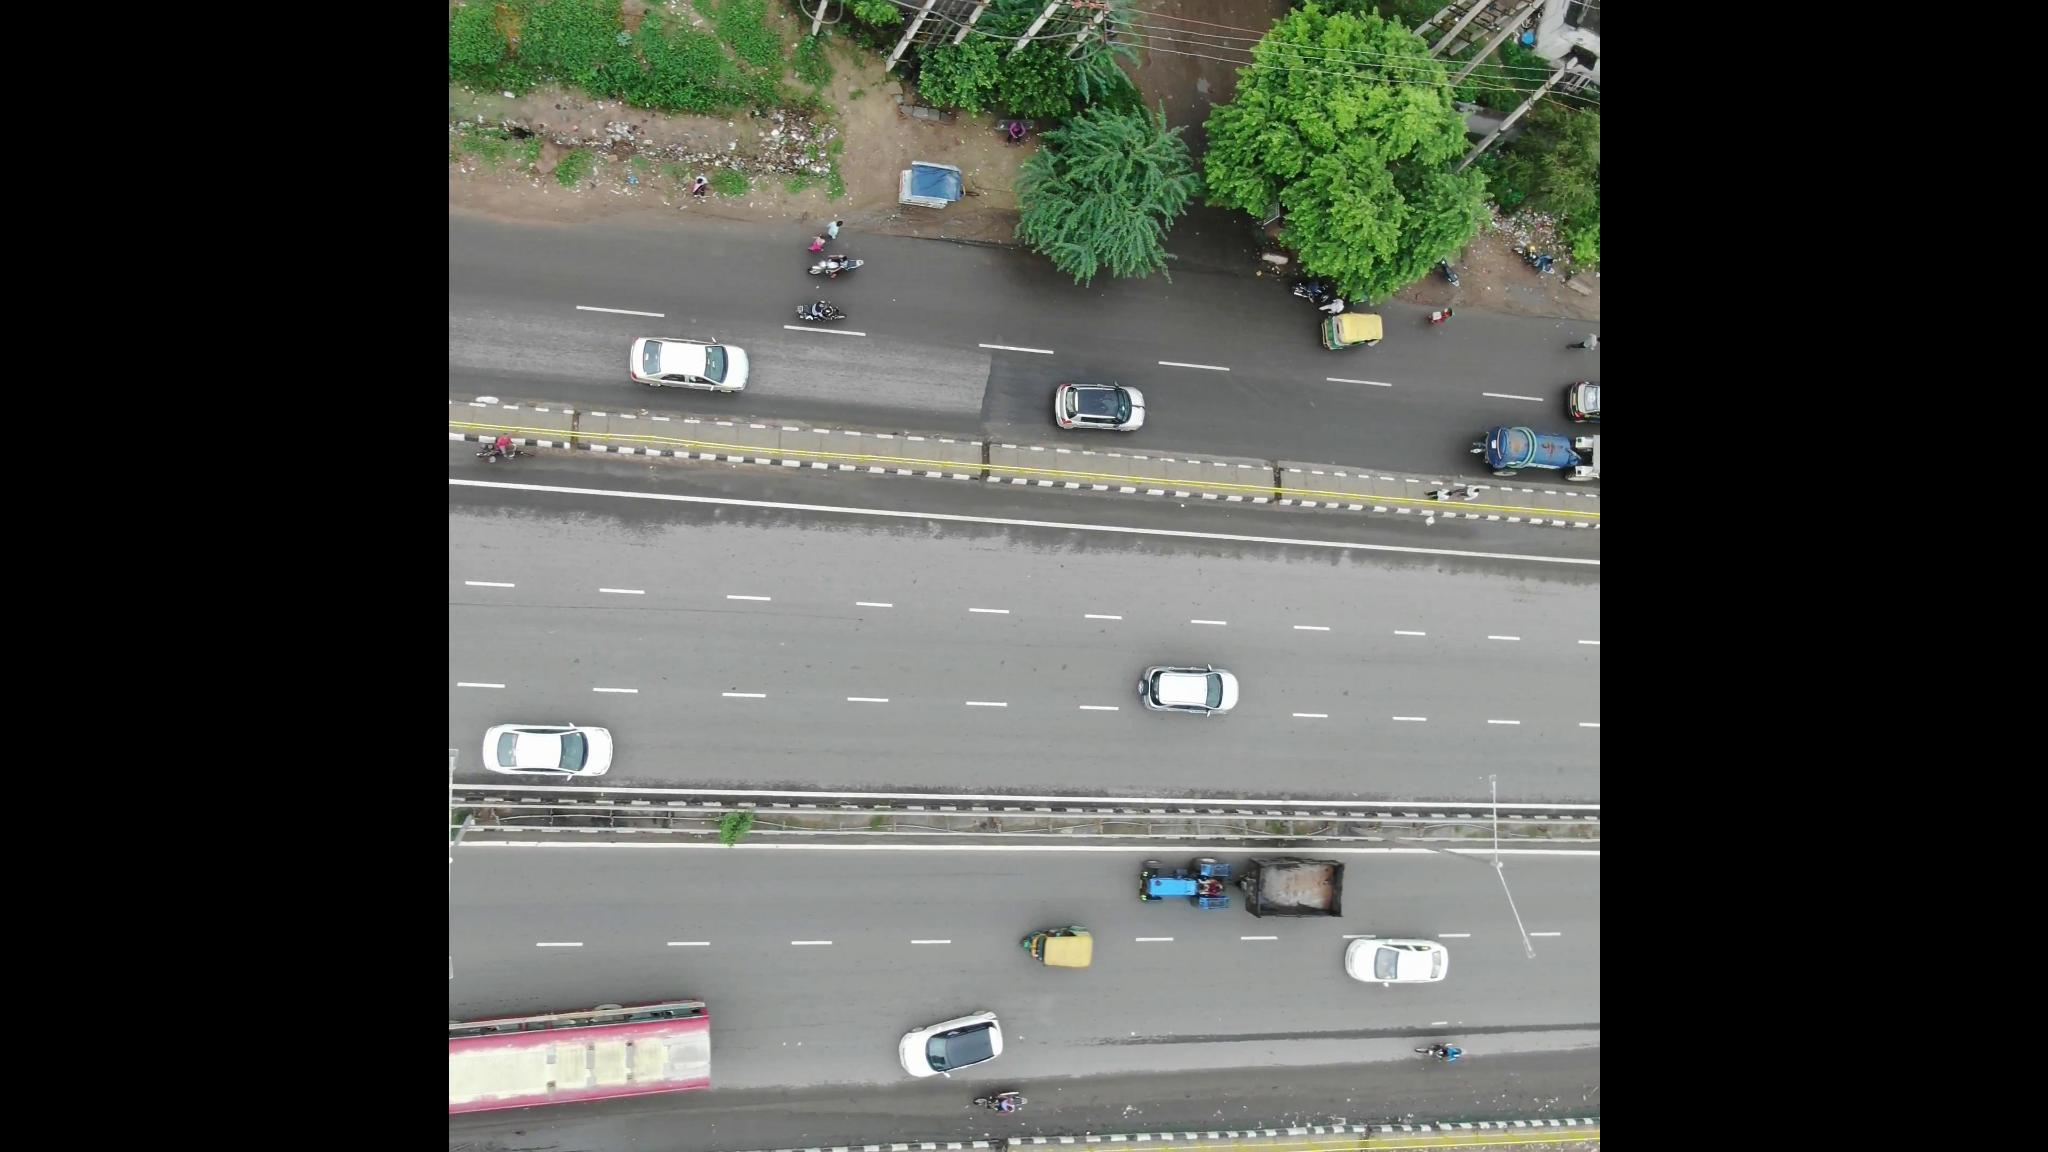Road_side_garbage: (717, 93, 873, 203)
